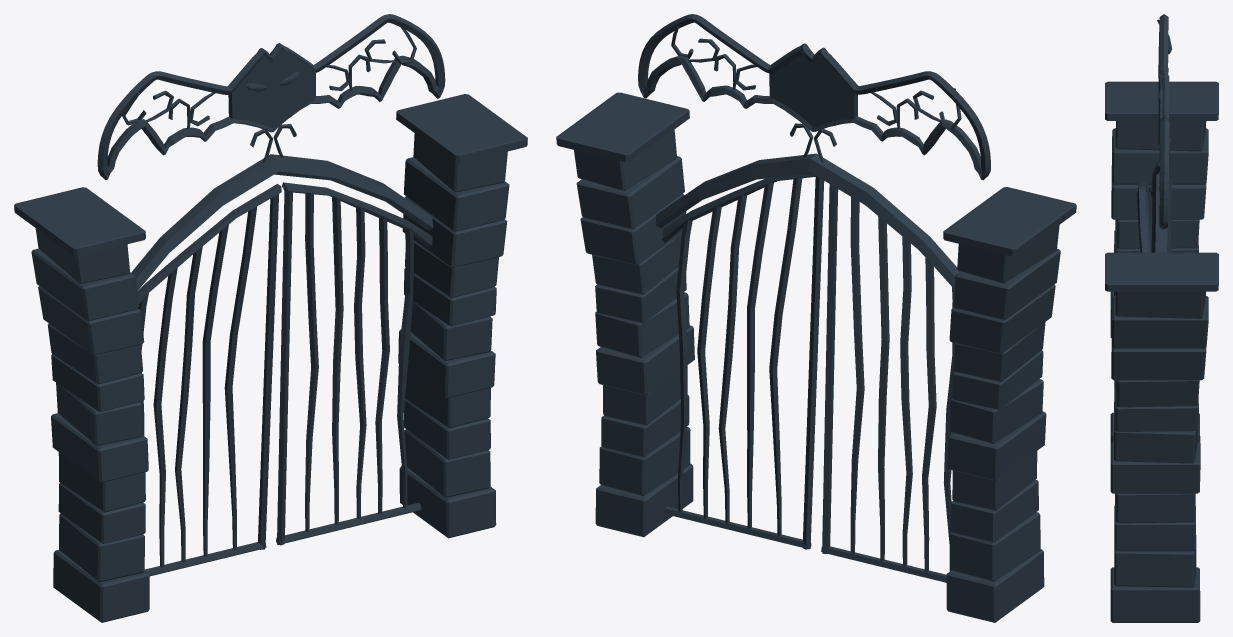
Rendered from CH_CE_prop_Door_Hell.fbx.
The picture shows the model from 3 angles, left to right: view 1: azimuth 30°, elevation 25°; view 2: azimuth 150°, elevation 25°; view 3: azimuth 270°, elevation 25°; orthographic projection. The views are drawn at different scales.
Parts seen in each view (by area): view 1: CH_CE_Prop_Door_Hell, CH_CE_Prop_Door_02_Hell, CH_CE_Prop_Door_01_Hell; view 2: CH_CE_Prop_Door_Hell, CH_CE_Prop_Door_02_Hell, CH_CE_Prop_Door_01_Hell; view 3: CH_CE_Prop_Door_Hell, CH_CE_Prop_Door_02_Hell, CH_CE_Prop_Door_01_Hell.
Part boxes in pixels (left/top/right/bottom): CH_CE_Prop_Door_Hell: left=14, top=14, right=527, bottom=622; CH_CE_Prop_Door_02_Hell: left=276, top=182, right=432, bottom=545; CH_CE_Prop_Door_01_Hell: left=137, top=184, right=281, bottom=576; CH_CE_Prop_Door_Hell: left=556, top=14, right=1076, bottom=622; CH_CE_Prop_Door_02_Hell: left=662, top=174, right=824, bottom=549; CH_CE_Prop_Door_01_Hell: left=821, top=184, right=954, bottom=582; CH_CE_Prop_Door_Hell: left=1105, top=14, right=1218, bottom=622; CH_CE_Prop_Door_02_Hell: left=1137, top=189, right=1151, bottom=252; CH_CE_Prop_Door_01_Hell: left=1137, top=182, right=1152, bottom=246.
Size of the model in its own units: 589 by 633 by 139.
